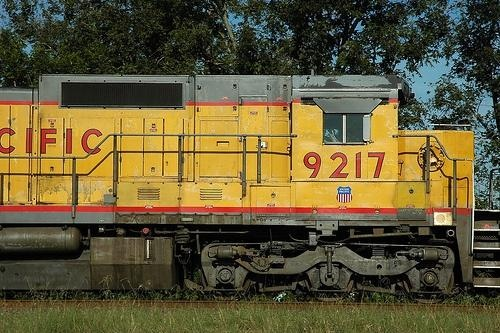train: (3, 70, 500, 305)
